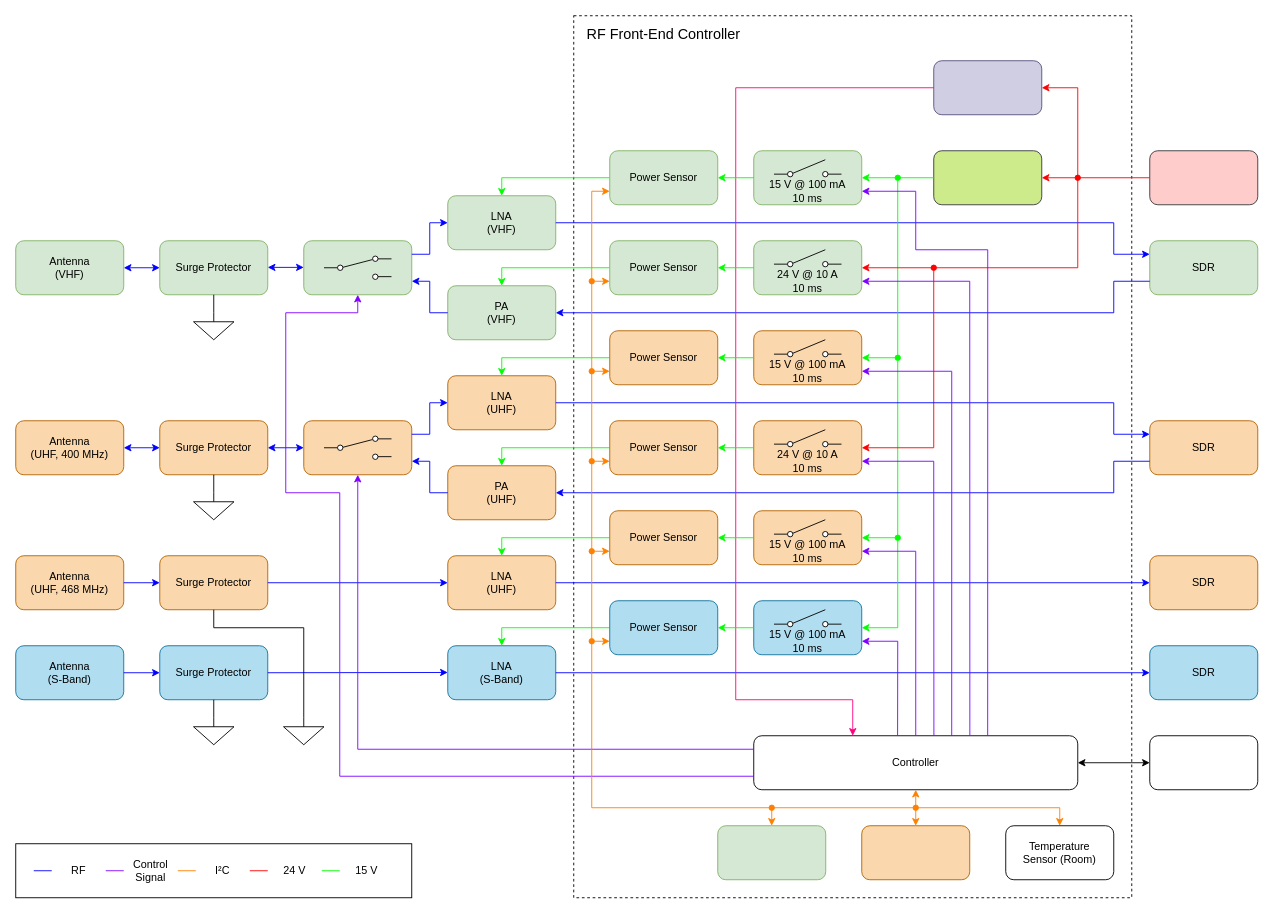
The diagram is 1274 pixels wide and 914 high, and some of its shapes have lost their labels. Each missing label, with the centre of its shape:
"DC/DC Converter 15 V @ 2 A" goes at (987,177).
"DC/DC Converter 3V3 @ 1 A" goes at (987,87).
"Network Switch" goes at (1203,762).
"Power Supply 24 V" goes at (1203,177).
"Temperature Sensor (PA UHF)" goes at (915,852).
"Temperature Sensor (PA VHF)" goes at (771,852).
